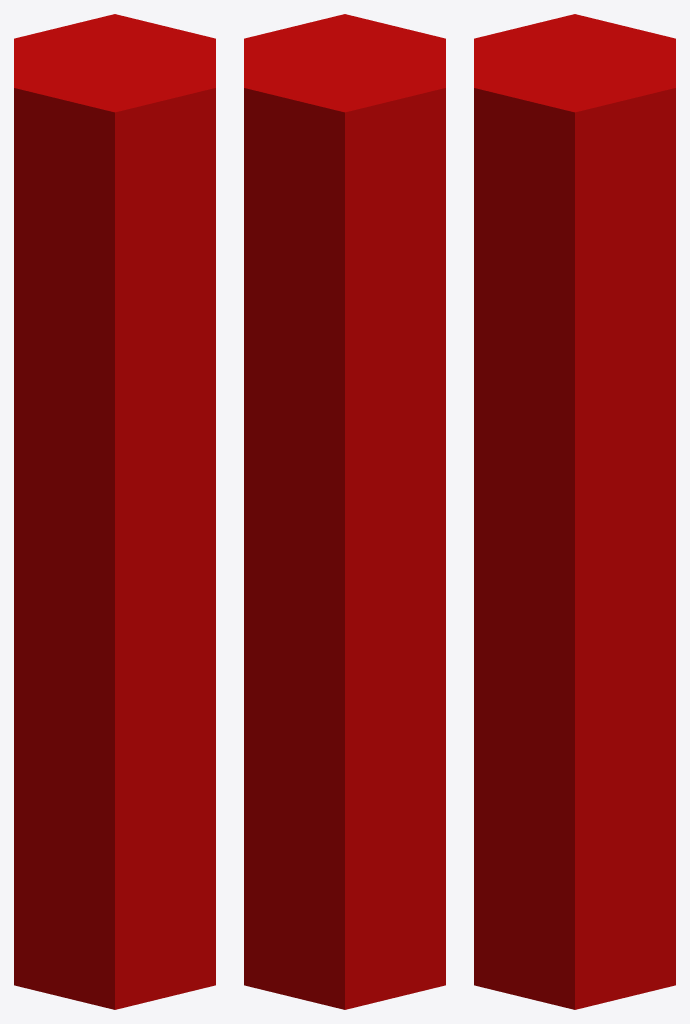
The model's file is Knapp.dae.
3 renders of one model, left to right at view 1: azimuth 30°, elevation 25°; view 2: azimuth 150°, elevation 25°; view 3: azimuth 270°, elevation 25°, orthographic.
Visible parts, largest first — view 1: SketchUp; view 2: SketchUp; view 3: SketchUp.
Part boxes in pixels (x1=…): SketchUp: x1=14, y1=14, x2=215, y2=1009; SketchUp: x1=244, y1=14, x2=445, y2=1009; SketchUp: x1=474, y1=14, x2=675, y2=1009.
Bounding box in the file's own units: 880 × 762 × 3739.
